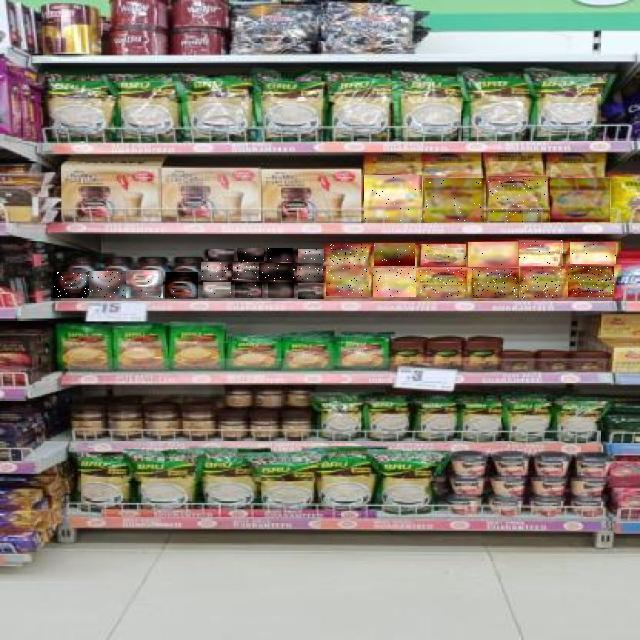Coffee: (488, 176, 550, 222), (364, 176, 422, 222), (426, 178, 486, 222), (550, 178, 610, 222), (420, 268, 468, 298), (568, 266, 614, 297), (472, 268, 519, 298), (520, 267, 562, 298), (326, 266, 369, 296), (468, 242, 518, 267), (373, 268, 416, 297), (520, 240, 566, 266), (420, 244, 466, 267), (126, 271, 163, 299), (570, 242, 616, 264), (88, 272, 126, 298), (374, 243, 415, 266), (53, 273, 89, 299), (165, 272, 198, 299), (330, 244, 368, 267), (260, 264, 296, 282), (232, 263, 262, 281), (202, 263, 230, 281), (203, 282, 231, 298), (235, 282, 262, 298), (268, 282, 294, 298), (298, 283, 324, 299), (267, 249, 293, 263), (238, 249, 264, 263), (208, 249, 234, 263), (298, 249, 324, 263), (297, 266, 323, 280)
